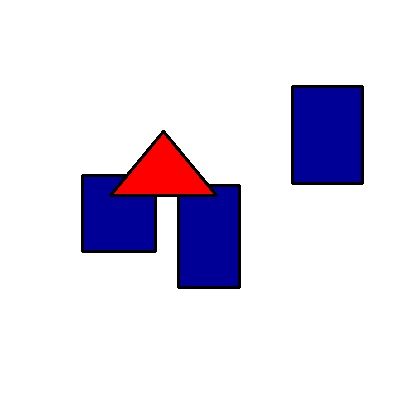rectangle: (292, 86, 362, 183), (178, 185, 239, 287), (82, 175, 155, 251)
triangle: (110, 131, 216, 195)
